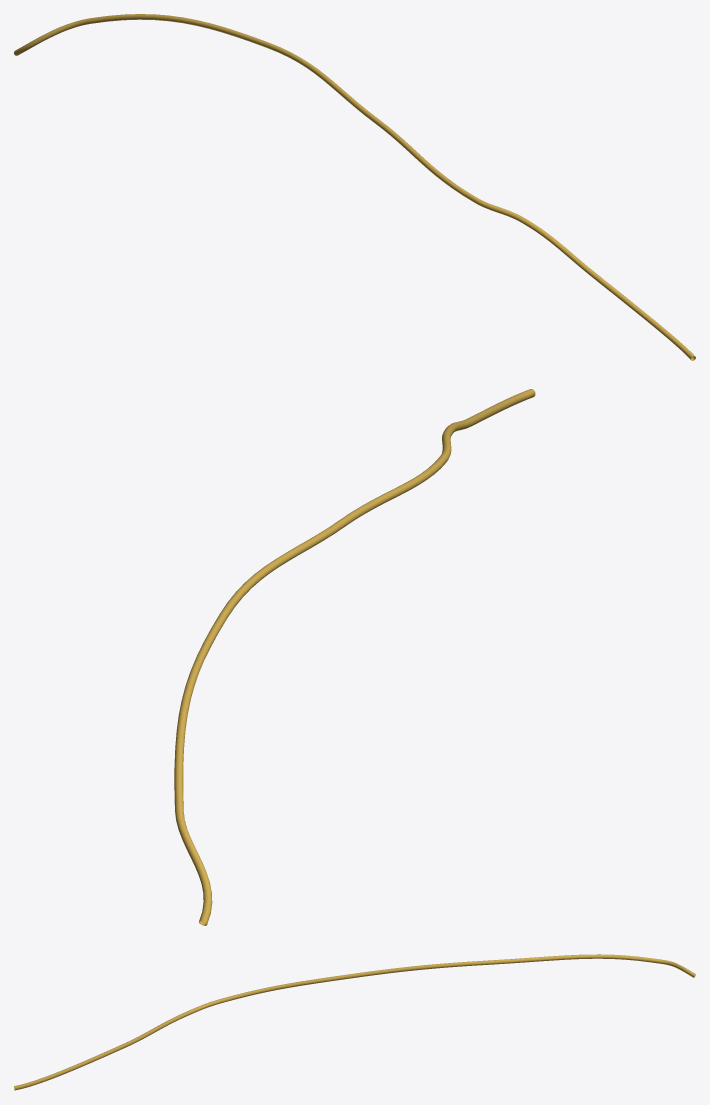
3 views of the same model, one above another, from view 1: azimuth 30°, elevation 25°; view 2: azimuth 150°, elevation 25°; view 3: azimuth 270°, elevation 25° (orthographic). The views are drawn at different scales.
Visible parts, largest first — view 1: 右侧腓总神经; view 2: 右侧腓总神经; view 3: 右侧腓总神经.
Boxes of the visible parts, <box> form: 右侧腓总神经: <box>14,14,695,360</box>; 右侧腓总神经: <box>174,389,535,925</box>; 右侧腓总神经: <box>14,954,695,1090</box>.
Size of the model in its own units: 0.0695 by 0.0329 by 0.2287.
